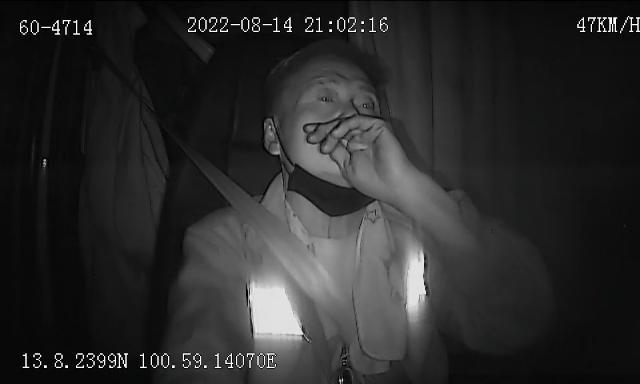Seatbelt: (212, 173, 372, 384)
